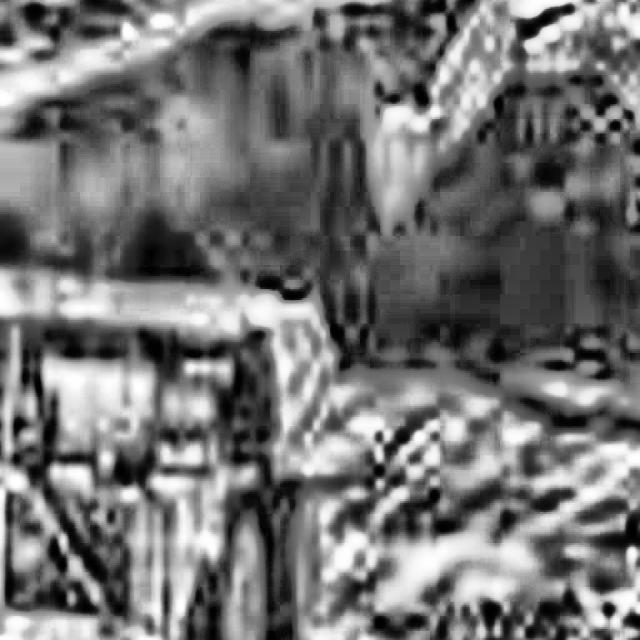dump_truck: (0, 157, 352, 639)
